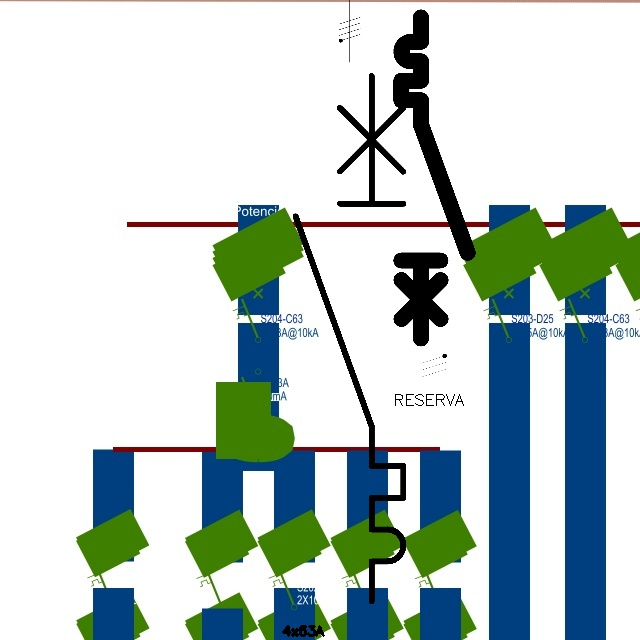interruptor_termomagnetico: (282, 62, 417, 614), (393, 9, 475, 347)
